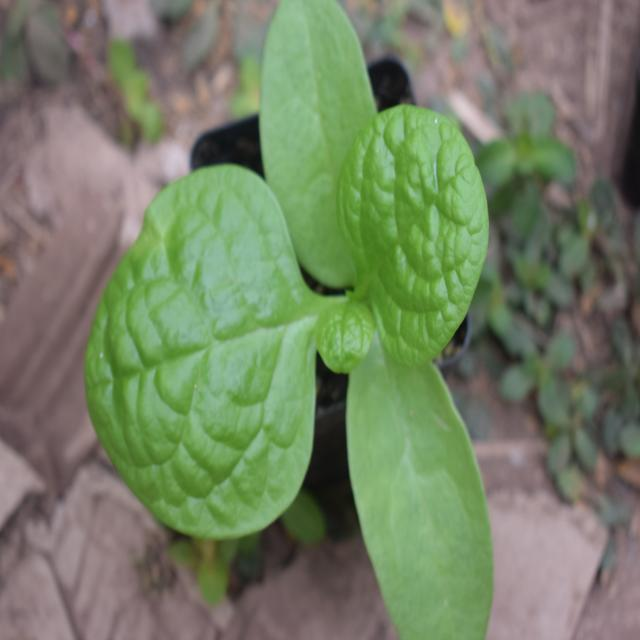Ceylon spinach: (92, 49, 514, 623)
